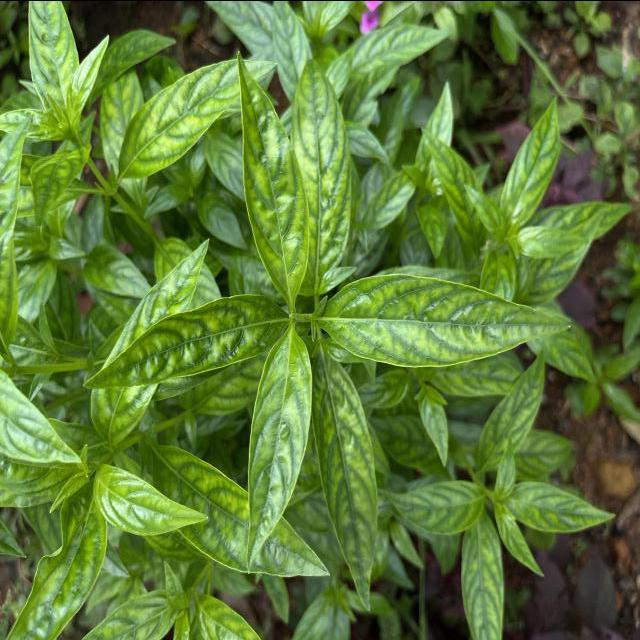Andrographis paniculata: (316, 272, 574, 370), (80, 290, 294, 392), (117, 54, 280, 178), (236, 48, 312, 308), (311, 348, 381, 614), (244, 324, 314, 576), (472, 348, 547, 471), (497, 92, 562, 233), (91, 462, 210, 537), (517, 200, 635, 258), (504, 478, 616, 534), (384, 476, 486, 534), (459, 518, 506, 640)
